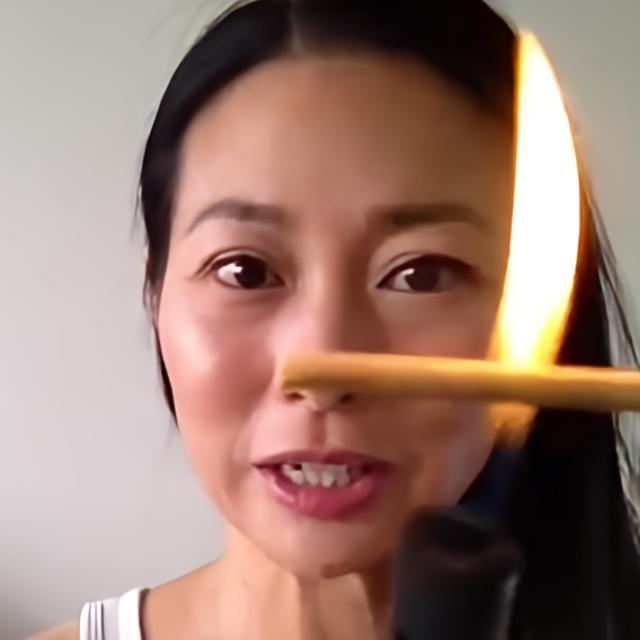surprise: (155, 52, 504, 584)
